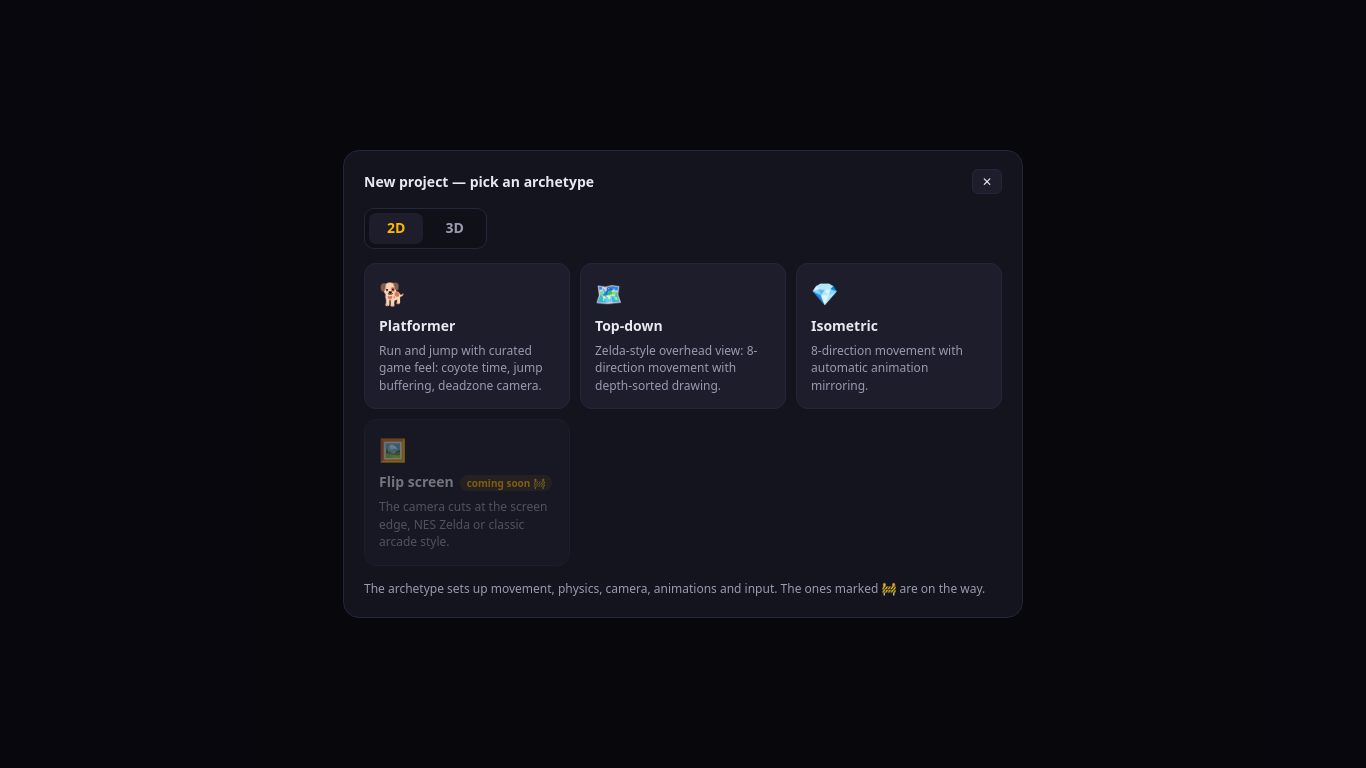
Test: ArchetypePicker characterization: the archetype step › switches to the 3D archetypes, Third person ready and First person on the way (issue #181 CA-32)
This screenshot has width=1366, height=768.
Click the button "3D" at (455, 229), box [427, 214, 482, 244]
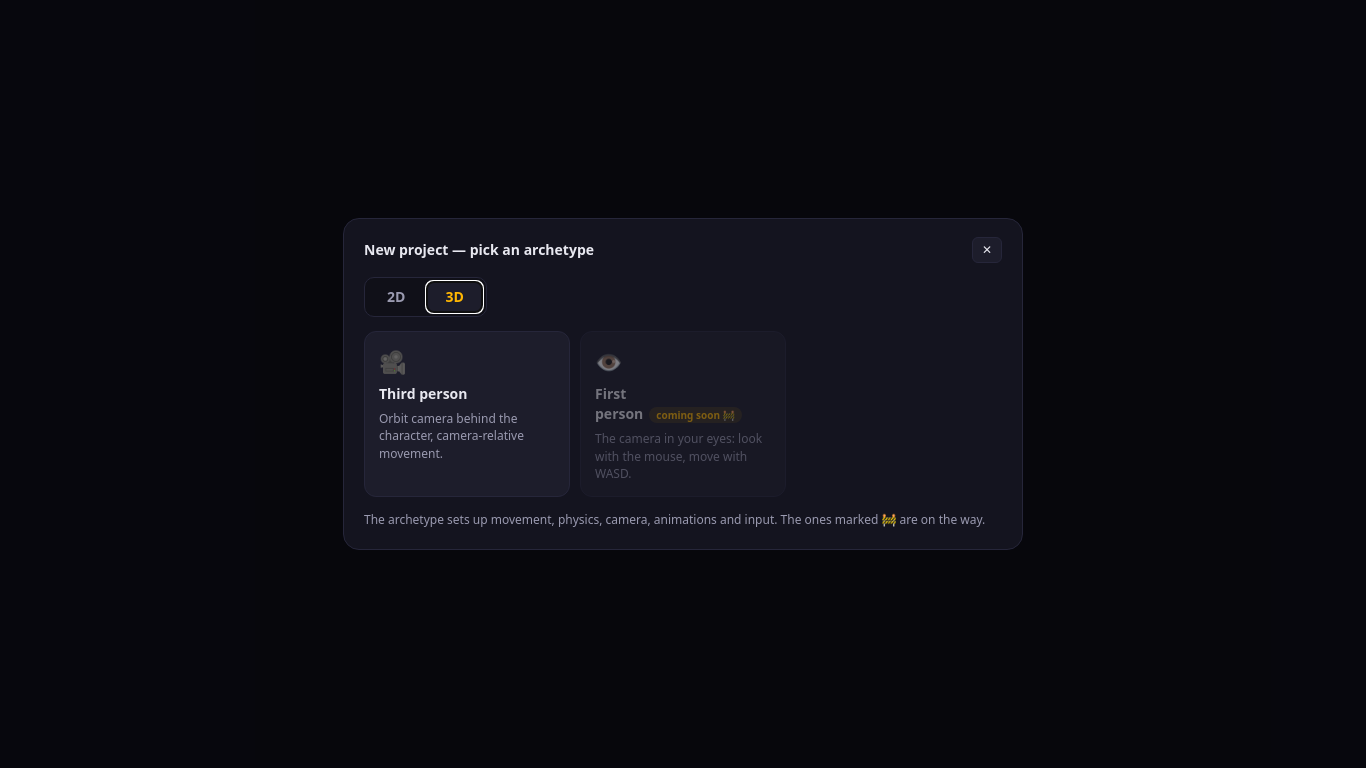
Check: the button "Third person" is enabled, box [364, 331, 570, 498]
Check: the button "First person" is disabled, box [580, 331, 786, 498]
Check: the button "Platformer" is gone
